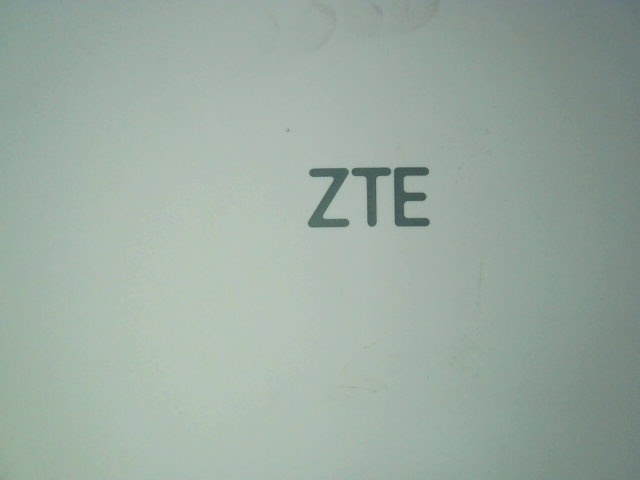AN_ZTE: (293, 158, 437, 236)
